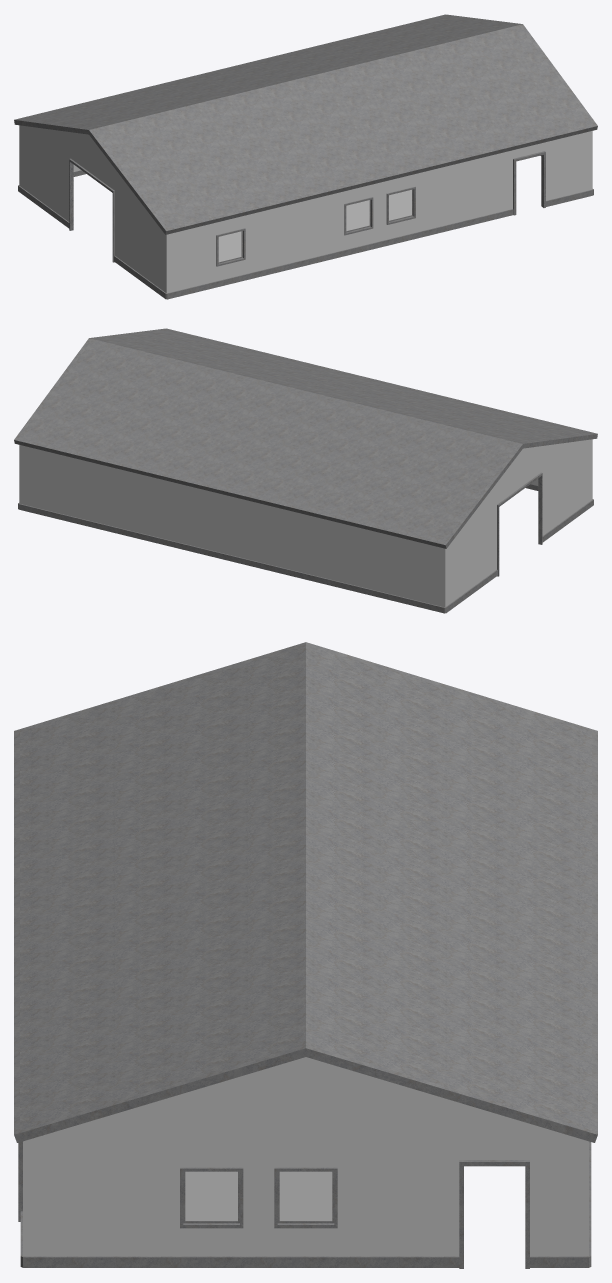
The model's file is Warehouse.fbx.
3 views of the same model, one above another, from view 1: azimuth 30°, elevation 25°; view 2: azimuth 150°, elevation 25°; view 3: azimuth 270°, elevation 25° (orthographic). The views are drawn at different scales.
Parts seen in each view (by area): view 1: Warehouse_01.obj; view 2: Warehouse_01.obj; view 3: Warehouse_01.obj.
Boxes of the visible parts, bbox=[...] form: Warehouse_01.obj: bbox=[14, 14, 597, 299]; Warehouse_01.obj: bbox=[14, 328, 597, 613]; Warehouse_01.obj: bbox=[14, 642, 597, 1268].
Size of the model in its own units: 2038 by 525 by 1238.
